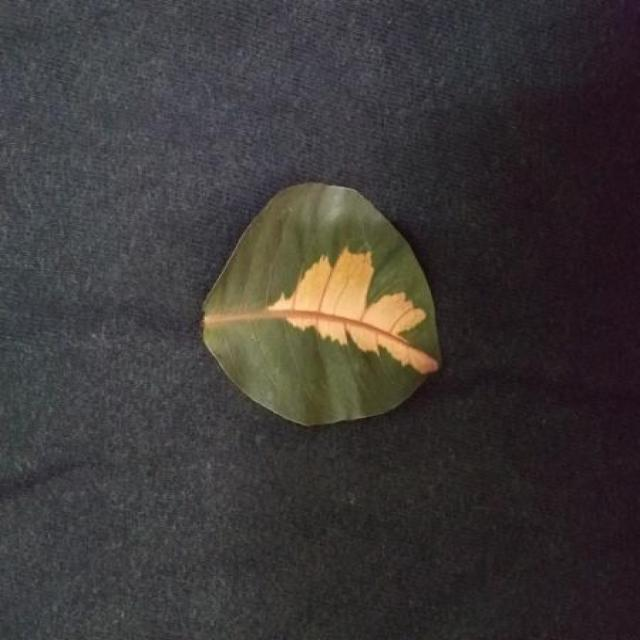caricature: (203, 182, 440, 424)
